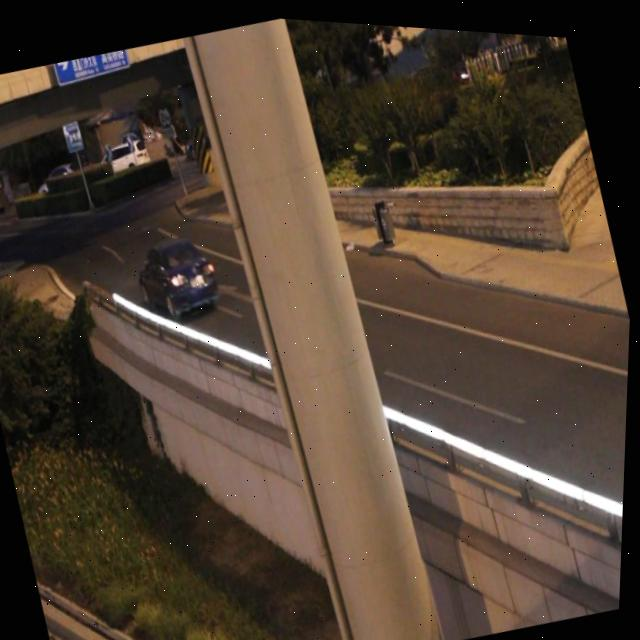car: (129, 224, 226, 324)
